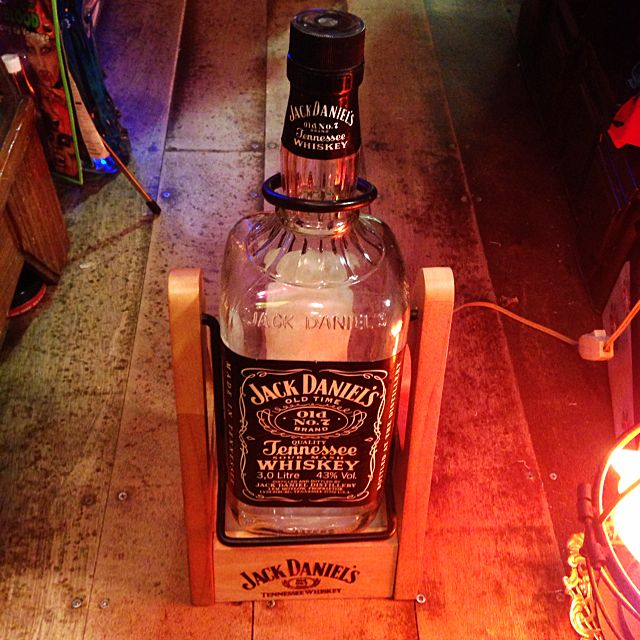Jack Daniel: (197, 3, 421, 555)
